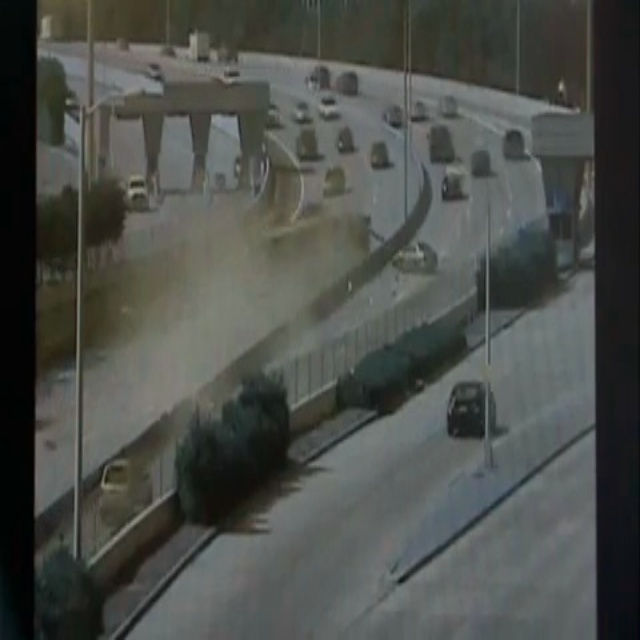acc: (202, 223, 332, 352)
